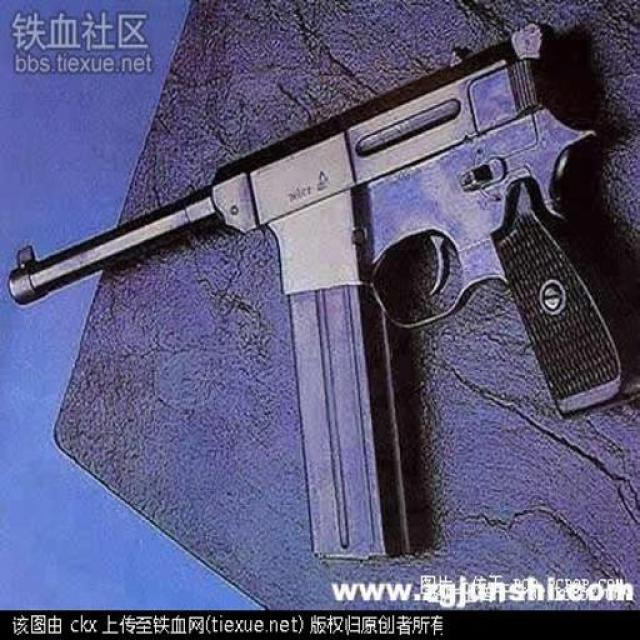pistol: (8, 21, 623, 407)
